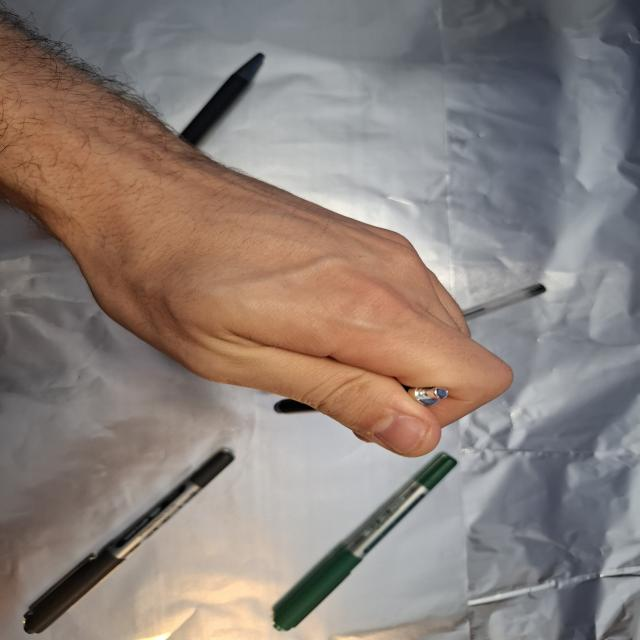glove_off: (61, 159, 518, 462)
